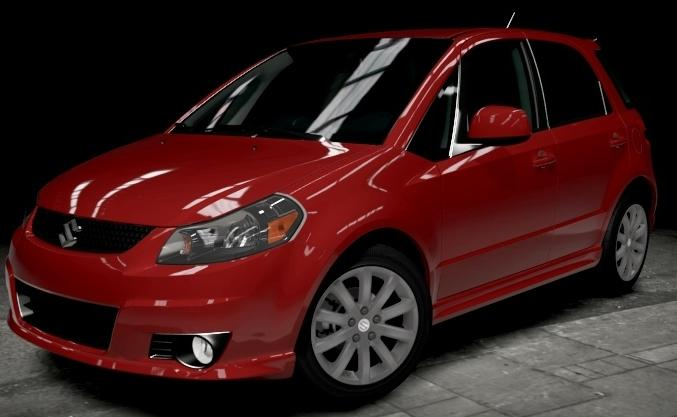front_view: (11, 188, 324, 382)
headlight: (165, 191, 306, 276)
side_glass: (440, 35, 619, 149)
